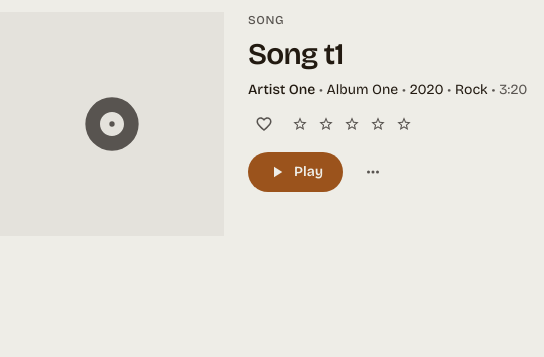
Test: Track detail header delete (admin) › omits Edit/Delete from the header context menu for non-admins
The image size is (544, 357).
Right-click the heading "Song t1" at point(296, 54), box left=248, top=36, right=343, bottom=72
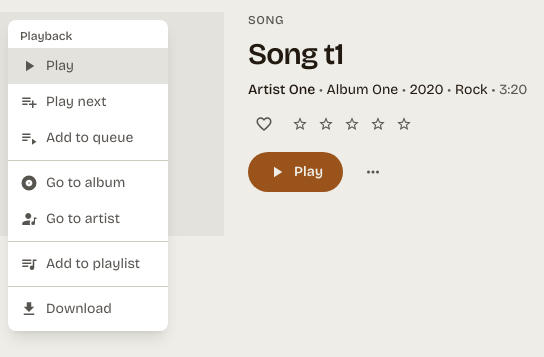
Result: the menu item "Play" is shown at left=8, top=48, right=168, bottom=84
